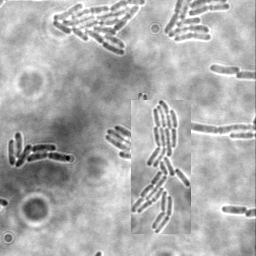Dividing: (192, 114, 255, 133), (138, 93, 148, 125), (221, 204, 248, 215)
Microcolony: (131, 100, 191, 234), (51, 1, 147, 56), (162, 1, 231, 44), (8, 130, 72, 167), (106, 124, 131, 160), (208, 63, 240, 74)
